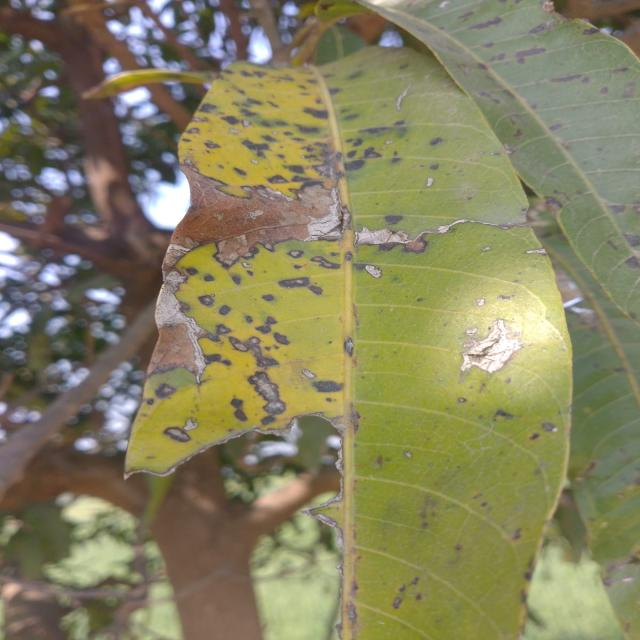Anthracnose: (253, 368, 294, 411), (230, 132, 287, 159), (194, 291, 240, 317), (281, 275, 325, 296)
Powdery Mildew: (460, 320, 521, 381)
black die: (516, 44, 551, 67), (551, 72, 585, 93), (470, 15, 509, 32), (420, 133, 454, 151)
